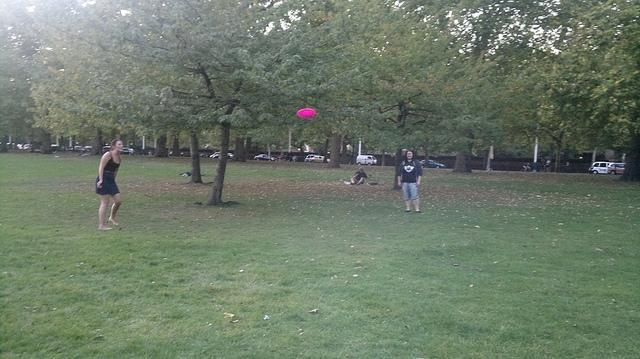car: (588, 162, 610, 174), (420, 160, 446, 168), (253, 154, 275, 162), (608, 164, 625, 174), (308, 156, 330, 163), (139, 148, 155, 156), (120, 147, 136, 155), (70, 146, 86, 154), (81, 146, 92, 156), (305, 154, 315, 162), (210, 151, 220, 158), (228, 152, 234, 158)
truck: (588, 162, 614, 174), (356, 155, 377, 166)
